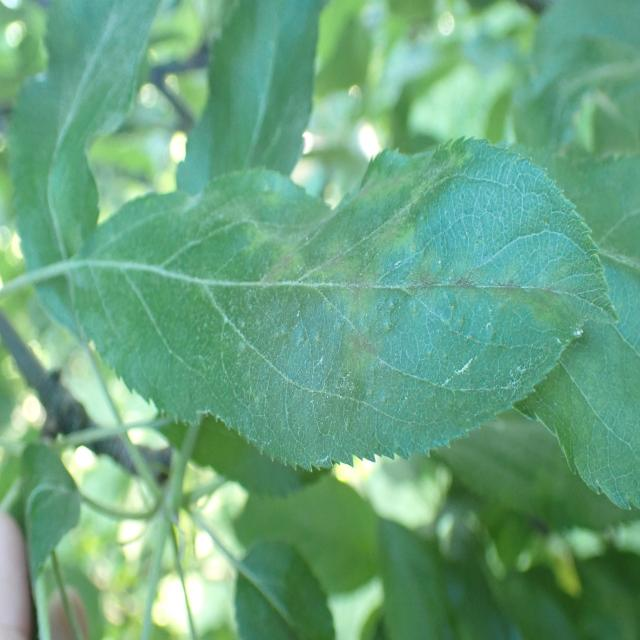scab: (87, 145, 608, 450)
